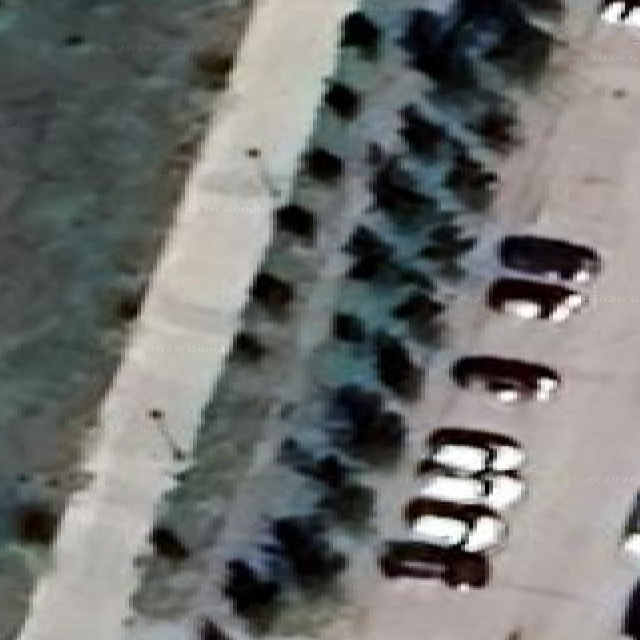car: (404, 497, 507, 551), (379, 540, 489, 588), (418, 427, 524, 475), (451, 355, 559, 402), (498, 235, 600, 283), (486, 277, 586, 321), (420, 469, 524, 511), (622, 492, 639, 559)
